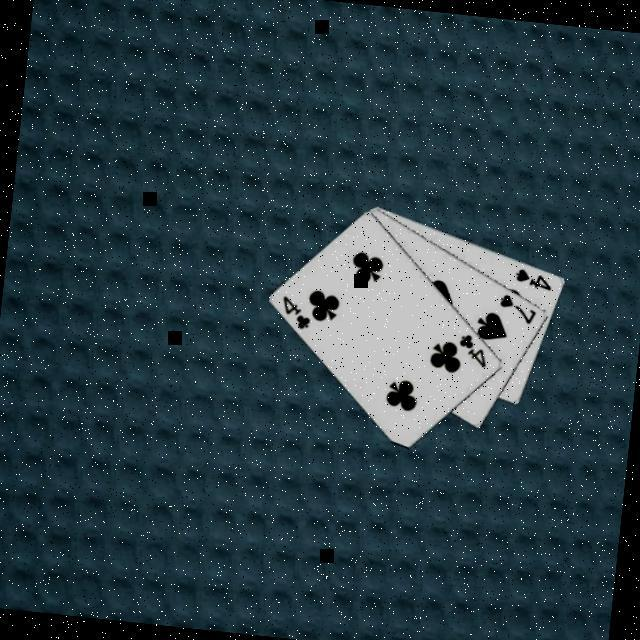4C: (276, 289, 314, 330), (452, 329, 490, 368)
4S: (509, 263, 553, 291)
7S: (493, 288, 539, 325)
